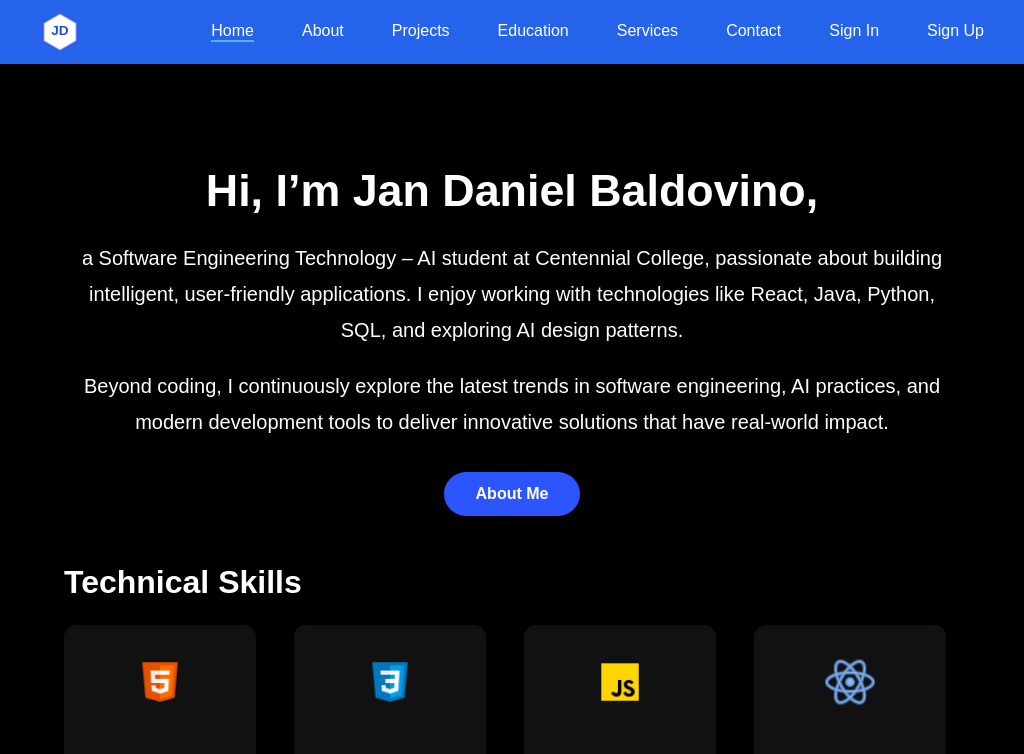
Scenario: Portfolio Website E2E Test › Navigates to Education Page
The image size is (1024, 754).
Click the link "Education".
click(534, 32)  # box x1=498 y1=22 x2=569 y2=42
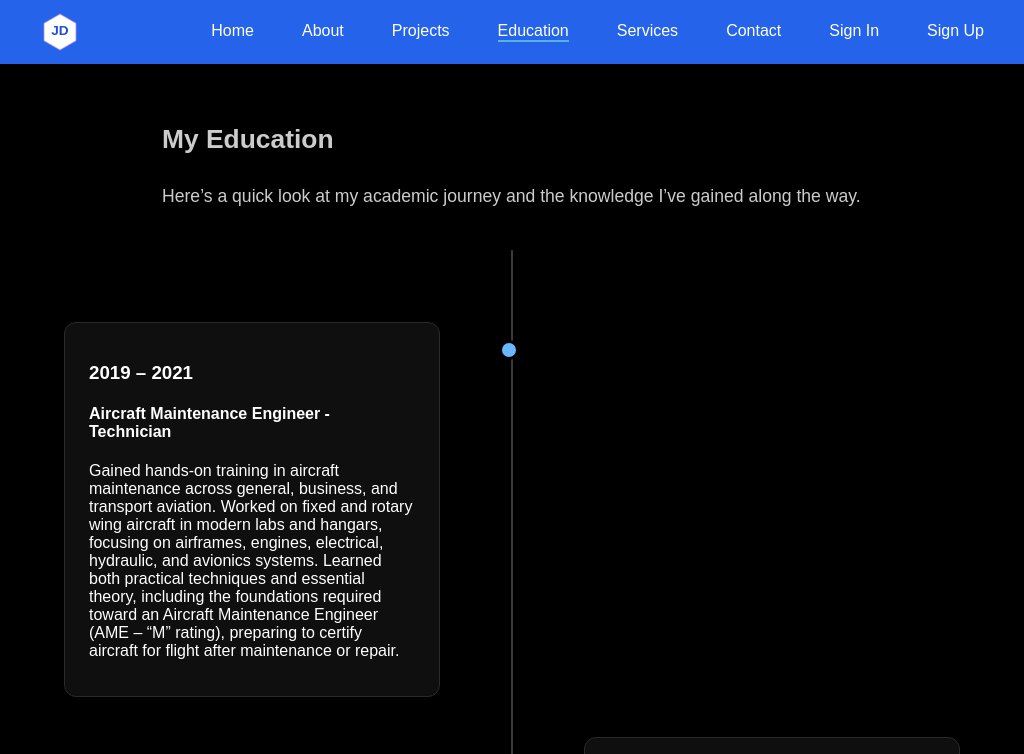
Expected: the heading "My Education" is shown, x1=162 y1=124 x2=334 y2=154
